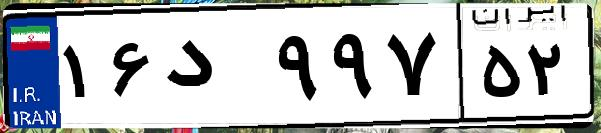1: (57, 26, 110, 100)
2: (525, 38, 570, 115)
5: (475, 38, 525, 113)
6: (110, 28, 158, 98)
7: (385, 28, 445, 110)
9: (270, 28, 330, 110), (330, 28, 385, 110)
د: (158, 20, 270, 120)
